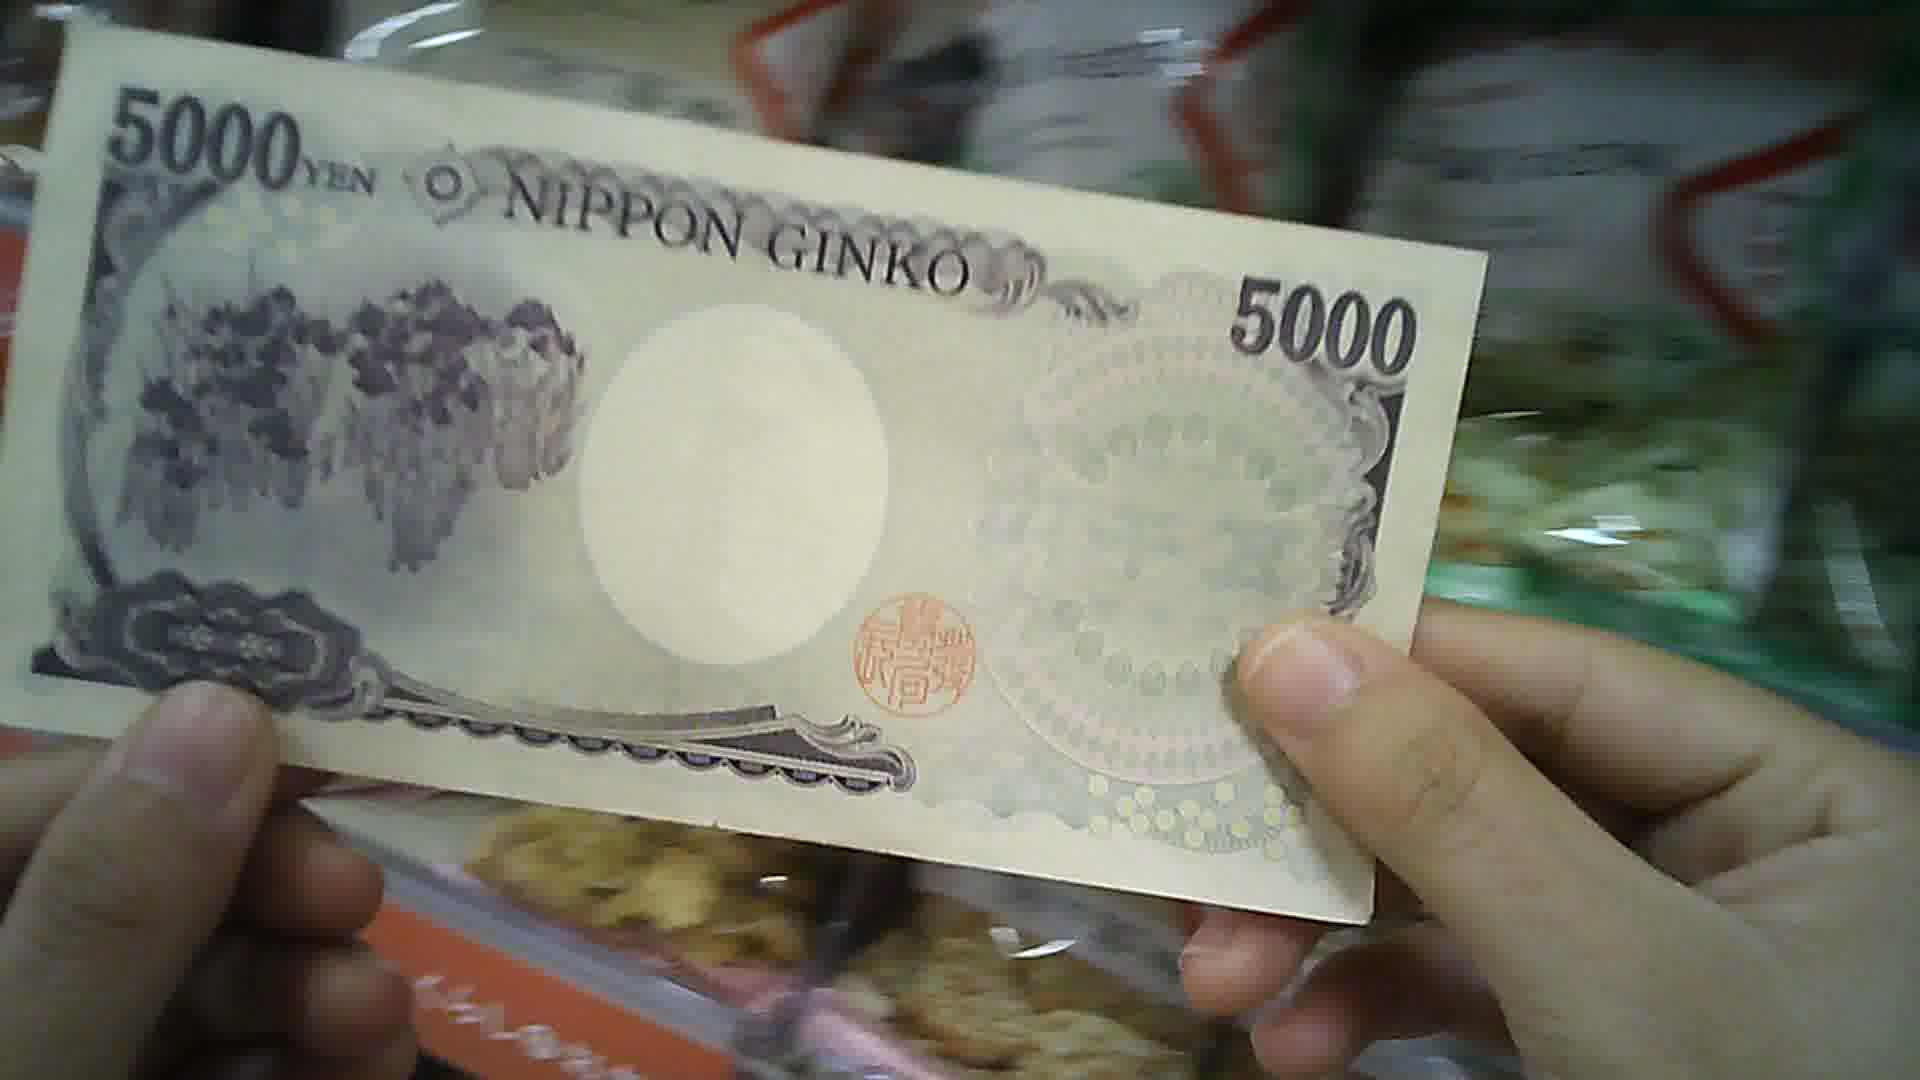5,000 Yen: (9, 15, 1524, 891)
